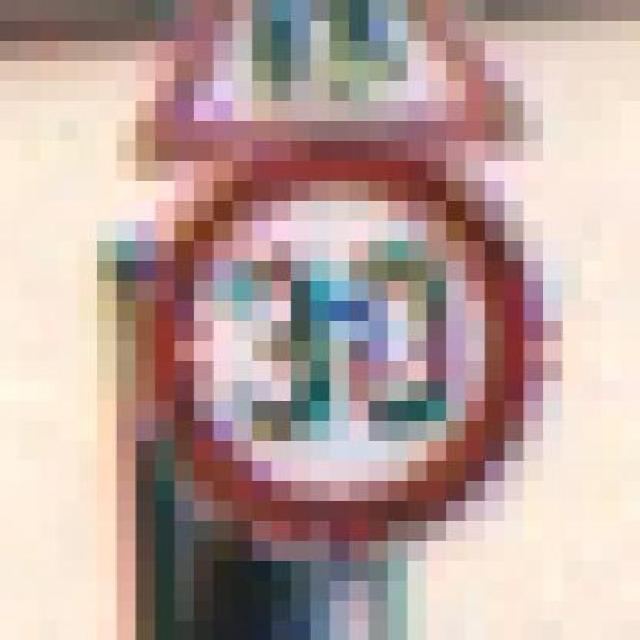Speed Limit 30 KMPh: (116, 140, 582, 580)
